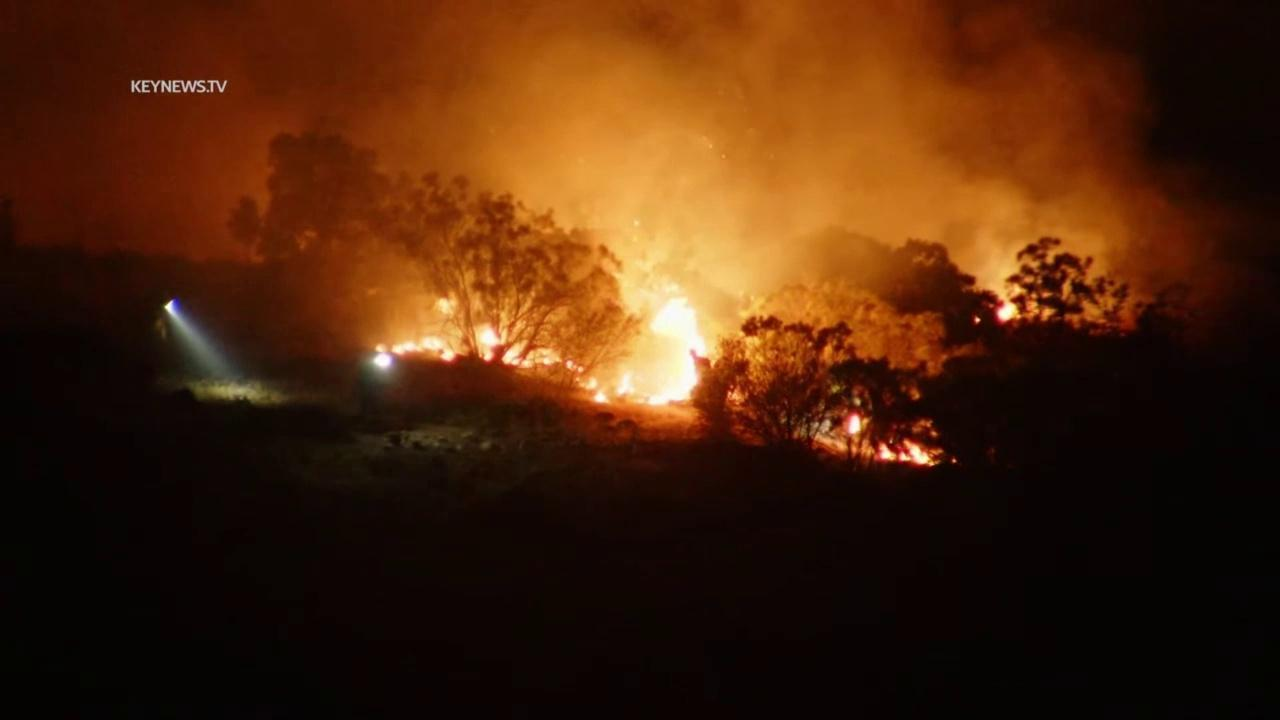fire: (615, 295, 709, 407), (373, 334, 456, 363), (876, 436, 945, 467), (473, 319, 503, 362), (578, 376, 608, 403), (502, 348, 535, 370), (916, 416, 940, 439), (431, 296, 454, 316), (845, 413, 862, 436), (996, 302, 1015, 322), (566, 359, 587, 375), (948, 455, 959, 467), (543, 357, 555, 367), (973, 314, 982, 326)
smoke: (0, 0, 1228, 411)
